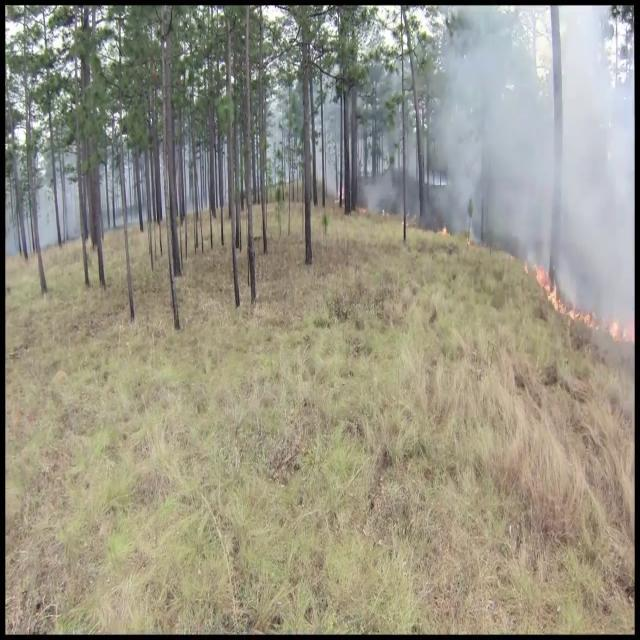Fire: (533, 266, 575, 329)
Smoke: (436, 3, 635, 336)
